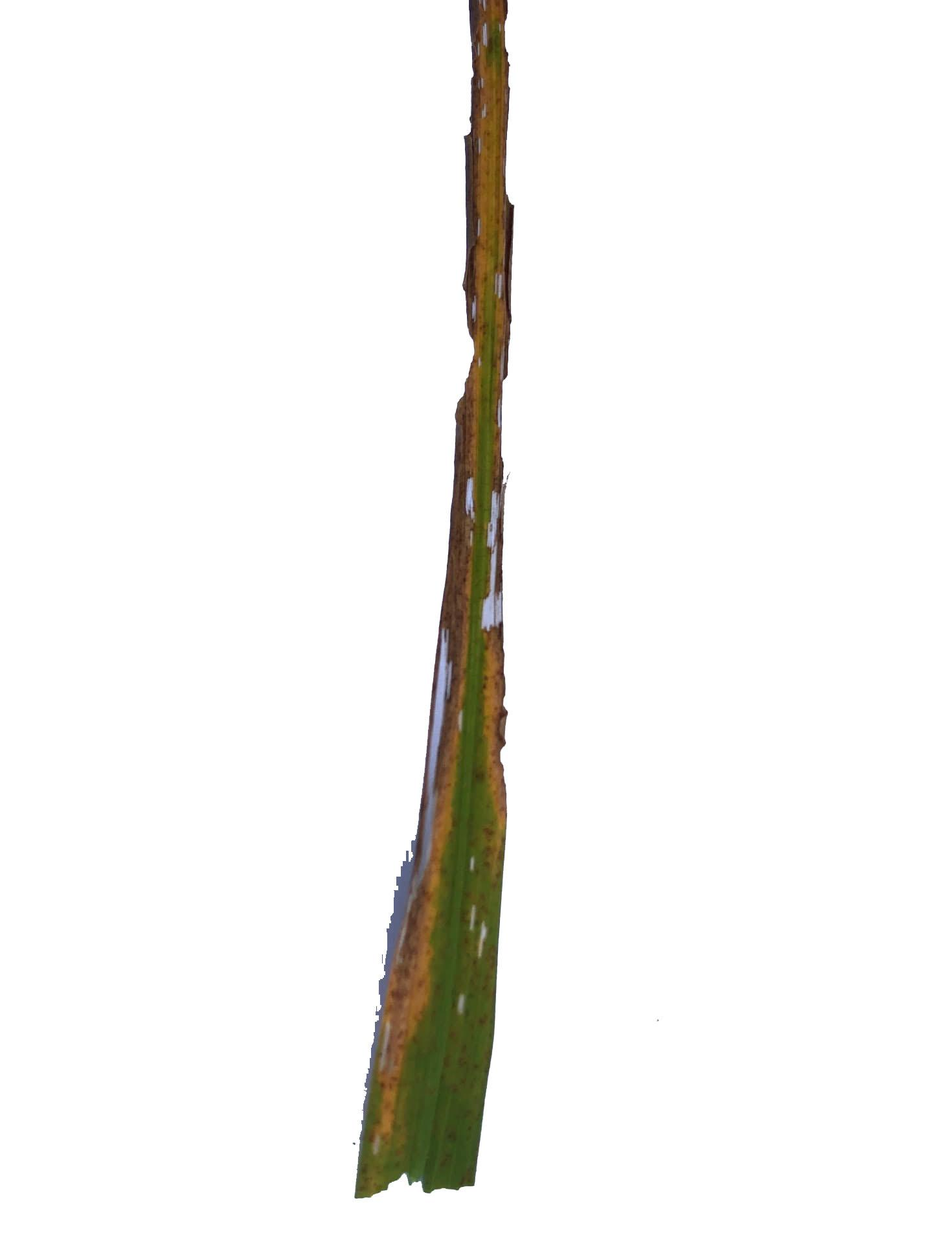Blight: (389, 577, 460, 1014)
Rice blast: (440, 0, 531, 564)
Tungro: (460, 599, 518, 978), (359, 1008, 453, 1195)
